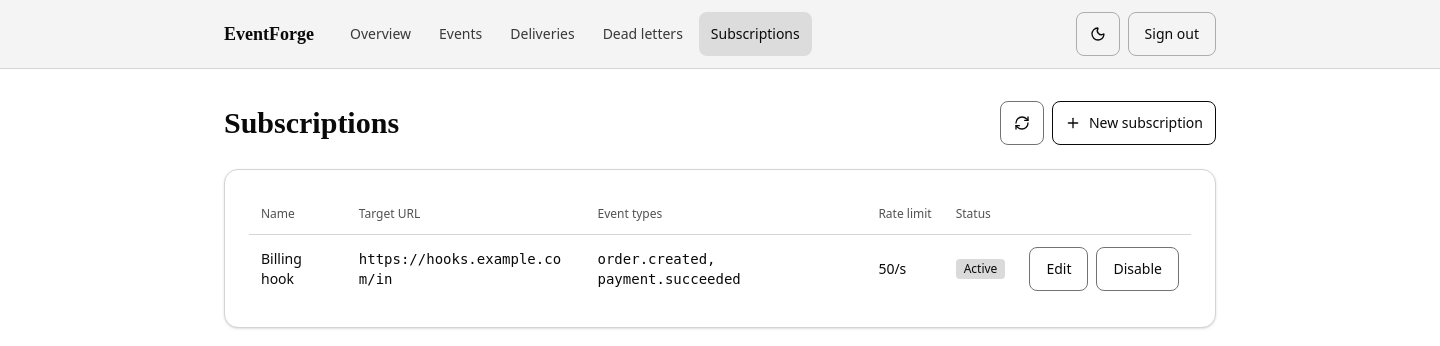
Test: Editing and disabling › disables an active subscription and reloads the list
This screenshot has width=1440, height=346.
What coordinates should you click on to do the following:
click the button with aria-label "Disable Billing hook"
I would click on:
 (1138, 268)
Its box is [1096,246,1179,290].
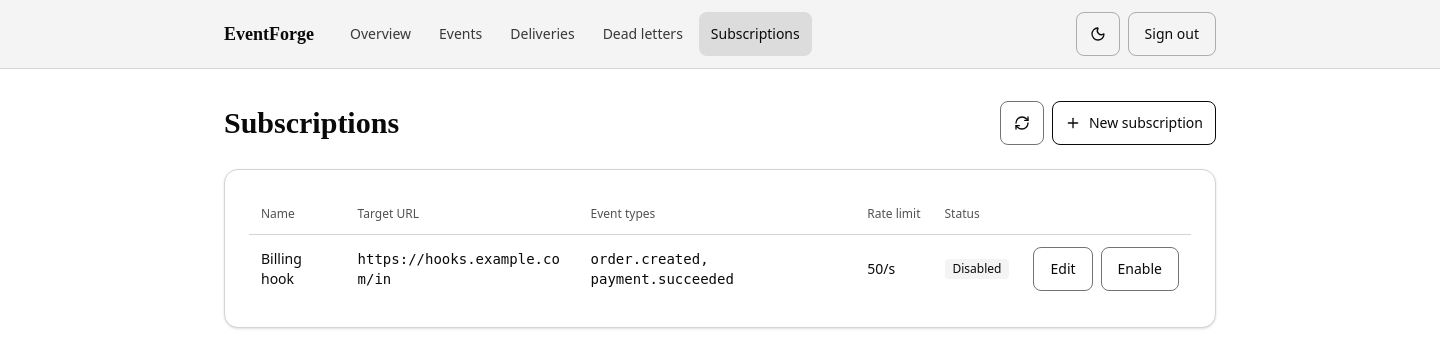
Now the text "Disabled" is shown, box [944,259,1010,279]
Now the button with aria-label "Enable Billing hook" is shown, box [1100,246,1179,290]
